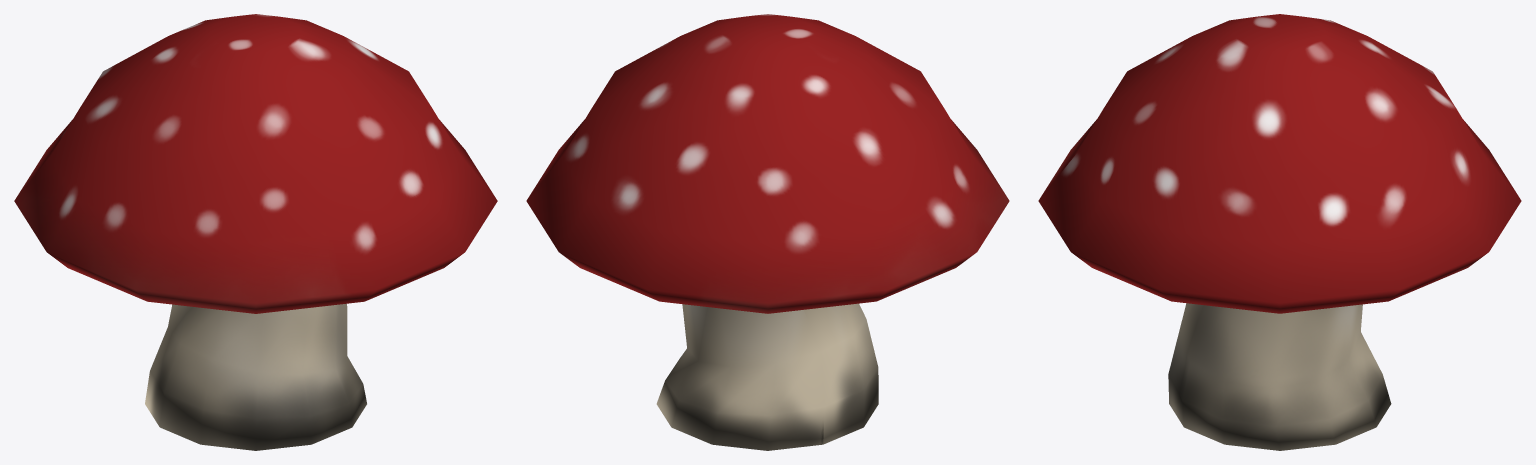
Rendered from Ground_NatureAccent_Shroom01.fbx.
The picture shows the model from 3 angles, left to right: view 1: azimuth 30°, elevation 25°; view 2: azimuth 150°, elevation 25°; view 3: azimuth 270°, elevation 25°; orthographic projection.
Visible parts, largest first — view 1: pCylinder1; view 2: pCylinder1; view 3: pCylinder1.
Boxes of the visible parts, x1,y1,x2,y2 form: pCylinder1: (14, 14, 497, 450); pCylinder1: (526, 14, 1009, 450); pCylinder1: (1038, 14, 1521, 450).
Size of the model in its own units: 25.37 by 21.45 by 25.37.
